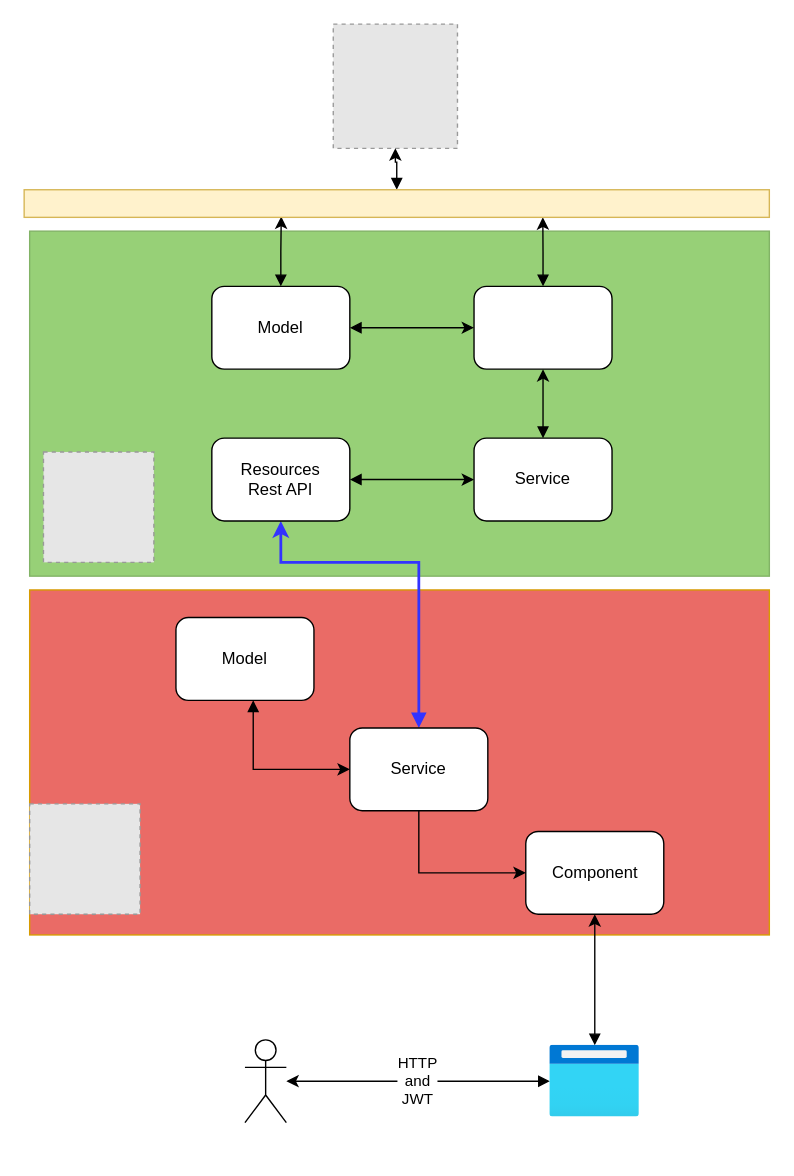
The diagram is 794 pixels wide and 1176 high, and some of its shapes have lost their labels. Grey dashed boxes stand in for pictures. Here are the shapes that lost their labels. From the top down, the box of each, then its label:
(23, 188, 769, 217): Java Persistence API
(473, 285, 612, 369): Repository
(244, 1038, 286, 1123): Actor
